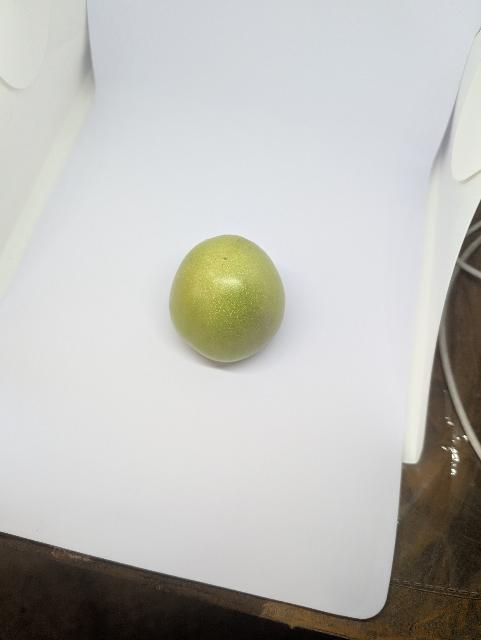green: (170, 220, 289, 371)
